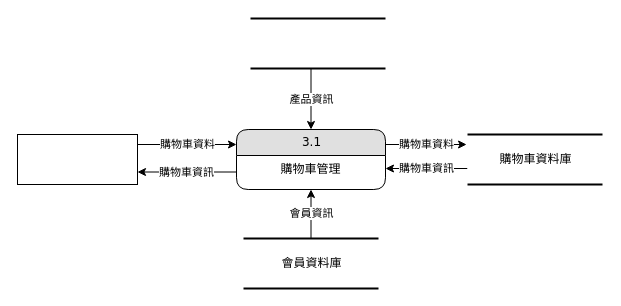
Some shapes in this 621 by 306 pixel diagram are drawn without their labels. The shapes that lost their labels are listed below. From the top down, each one's centre as x and y in pixels, then its label:
At (317,43): "產品資料庫".
At (77,159): "會員".
